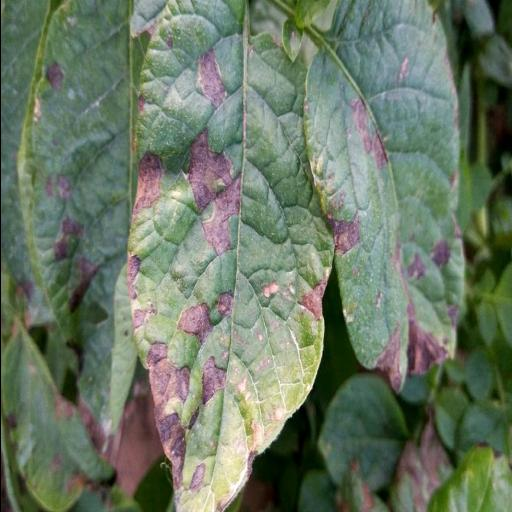disease_tomato: (124, 0, 334, 512), (302, 0, 469, 394)
